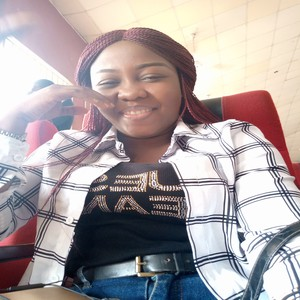Fulokoja_female_student: (81, 36, 212, 298)
